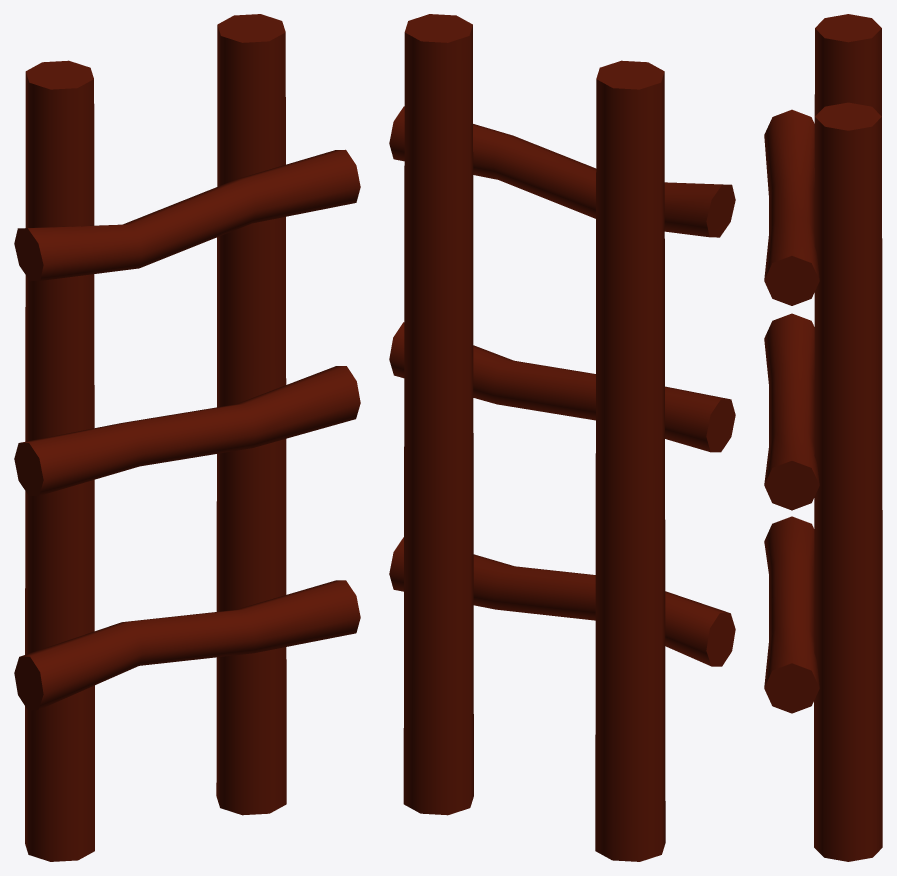
The model's file is Ladder.fbx.
The picture shows the model from 3 angles, left to right: view 1: azimuth 30°, elevation 25°; view 2: azimuth 150°, elevation 25°; view 3: azimuth 270°, elevation 25°; orthographic projection. The views are drawn at different scales.
Visible parts, largest first — view 1: Cylinder.024; view 2: Cylinder.024; view 3: Cylinder.024.
Part boxes in pixels (x1,y1,x2,y2): Cylinder.024: (14, 14, 360, 861); Cylinder.024: (389, 14, 735, 861); Cylinder.024: (764, 14, 882, 861).
Size of the model in its own units: 74.8 by 25.45 by 173.
